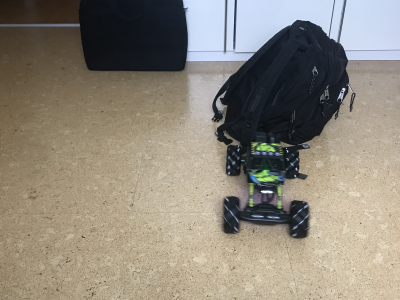remote control car: (219, 131, 312, 242)
